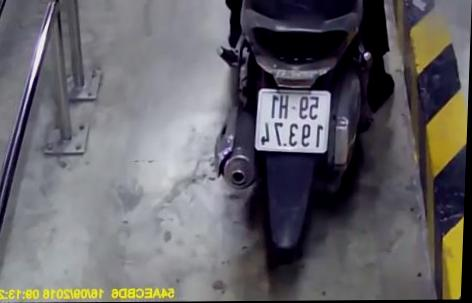License_Plate: (245, 85, 340, 159)
